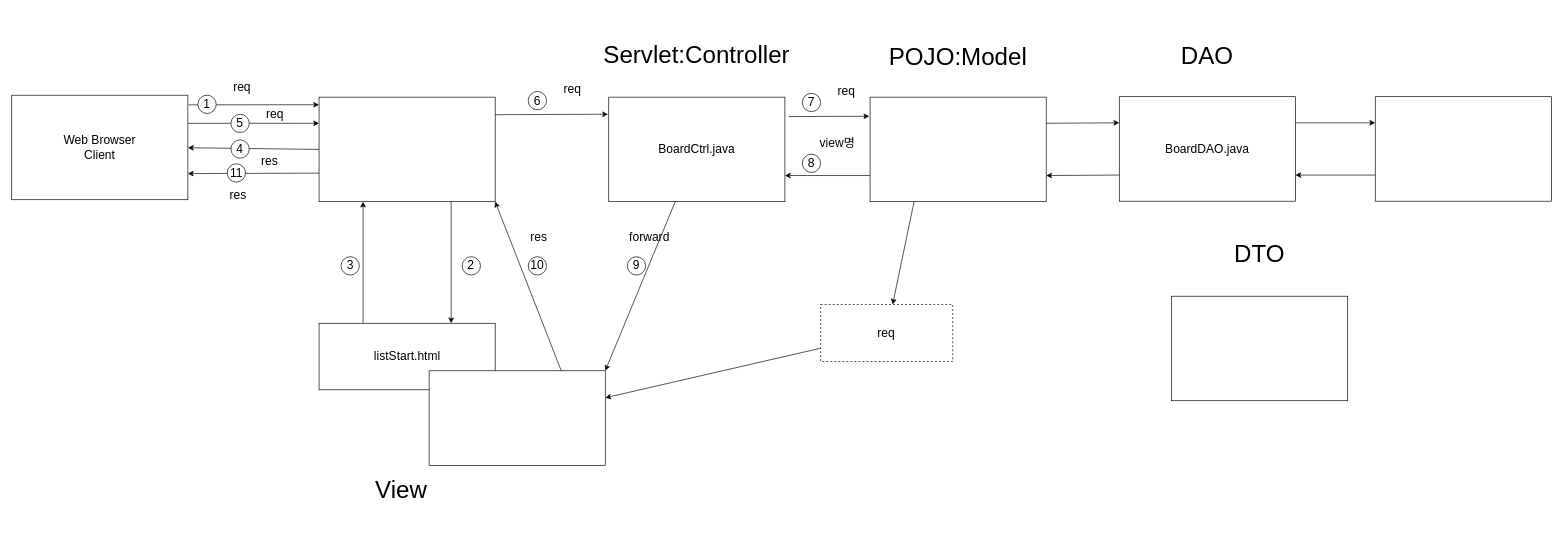
Some shapes in this 1563 by 544 pixel diagram are drawn without their labels. Here are the shapes that lost their labels. From the top down, the box of each, then its label:
(318, 96, 495, 202): Web Application Server
(869, 96, 1046, 202): BoardSvc.java
(1375, 96, 1551, 201): DB
(1171, 296, 1348, 401): BoardDTO.java
(428, 370, 605, 465): list.jsp content.jsp writeForm.jsp updateForm.jsp deleteForm.jsp boardErr.jsp
